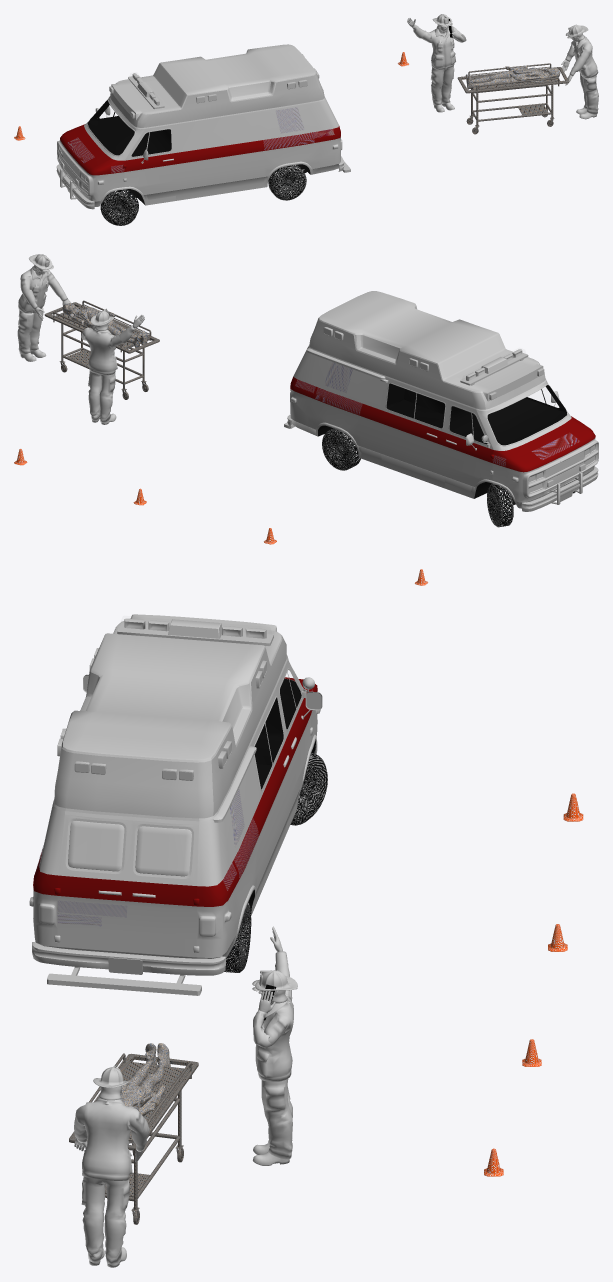
Rendered from Neoflyscene1.gltf.
3 renders of one model, top to bottom at view 1: azimuth 30°, elevation 25°; view 2: azimuth 150°, elevation 25°; view 3: azimuth 270°, elevation 25°, orthographic. The views are drawn at different scales.
Parts seen in each view (by area): view 1: body_chvan_body_1_0, ambulance_pack_chvan_body_1_0, body_chvan_body_2_0, Fireman 2, void_void_0, Fireman 1, decals_amb_ucb_emrs_decals_dff_0, chrome_chvan_chrome_0, Girl, wheel_01_WHEEL_0, wheel_02_WHEEL_0, Stretcher (+1 smaller); view 2: ambulance_pack_chvan_body_1_0, body_chvan_body_1_0, body_chvan_body_2_0, void_void_0, panel_door_windowed_chvan_body_1_0, Fireman 2, Fireman 1, chrome_chvan_chrome_0, decals_amb_ucb_emrs_decals_dff_0, panel_door_windowed_void_0, wheel_03_WHEEL_0, wheel_04_WHEEL_0 (+4 smaller); view 3: ambulance_pack_chvan_body_1_0, body_chvan_body_1_0, Fireman 1, Fireman 2, body_chvan_body_2_0, chrome_chvan_chrome_0, decals_amb_ucb_emrs_decals_dff_0, ambulance_pack_chvan_chrome_0, Girl, panel_door_windowed_chvan_body_1_0, Stretcher, wheel_04_WHEEL_0 (+4 smaller).
Boxes of the visible parts, box(x1,y1,x2,y2) form: body_chvan_body_1_0: box(58, 96, 341, 206); ambulance_pack_chvan_body_1_0: box(60, 44, 324, 199); body_chvan_body_2_0: box(60, 124, 340, 175); Fireman 2: box(421, 14, 466, 112); void_void_0: box(87, 100, 171, 156); Fireman 1: box(561, 24, 598, 119); decals_amb_ucb_emrs_decals_dff_0: box(68, 107, 334, 172); chrome_chvan_chrome_0: box(56, 99, 350, 209); Girl: box(465, 65, 560, 89); wheel_01_WHEEL_0: box(100, 189, 138, 225); wheel_02_WHEEL_0: box(268, 165, 306, 200); Stretcher: box(457, 67, 569, 93); ambulance_pack_chvan_body_1_0: box(309, 291, 582, 504); body_chvan_body_1_0: box(290, 345, 597, 508); body_chvan_body_2_0: box(290, 377, 595, 472); void_void_0: box(449, 385, 566, 445); panel_door_windowed_chvan_body_1_0: box(380, 377, 448, 482); Fireman 2: box(81, 308, 122, 424); Fireman 1: box(17, 254, 71, 361); chrome_chvan_chrome_0: box(284, 384, 598, 511); decals_amb_ucb_emrs_decals_dff_0: box(295, 362, 579, 466); panel_door_windowed_void_0: box(386, 383, 445, 428); wheel_03_WHEEL_0: box(322, 428, 360, 470); wheel_04_WHEEL_0: box(487, 484, 513, 527); ambulance_pack_chvan_body_1_0: box(54, 614, 286, 818); body_chvan_body_1_0: box(32, 655, 317, 974); Fireman 1: box(74, 1065, 149, 1267); Fireman 2: box(252, 970, 297, 1165); body_chvan_body_2_0: box(33, 677, 317, 906); chrome_chvan_chrome_0: box(32, 668, 322, 995); decals_amb_ucb_emrs_decals_dff_0: box(35, 690, 312, 926); ambulance_pack_chvan_chrome_0: box(117, 618, 314, 697); Girl: box(120, 1043, 170, 1116); panel_door_windowed_chvan_body_1_0: box(250, 687, 291, 883); Stretcher: box(69, 1053, 198, 1150); wheel_04_WHEEL_0: box(290, 752, 327, 825).
Size of the model in its own units: 10.5 by 2.36 by 4.99.
